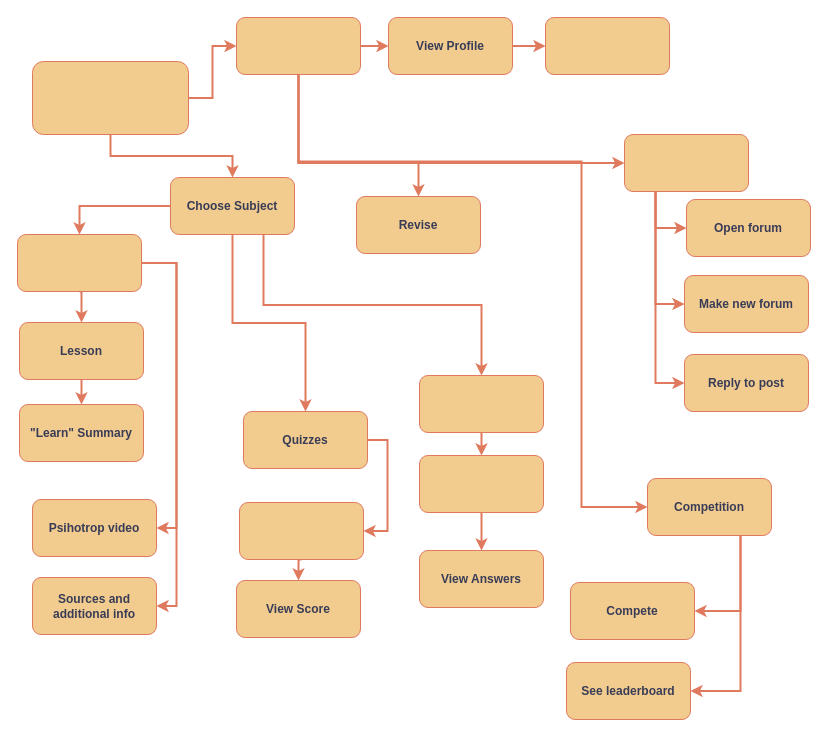
The diagram is 828 pixels wide and 737 high, and some of its shapes have lost their labels. Here are the shapes that lost their labels. From the top down, the box of each, then its label:
(236, 16, 360, 74): Log-in/Sign-up
(544, 16, 670, 74): View Statistics
(32, 60, 188, 134): Student
(624, 134, 748, 192): Forum
(16, 234, 142, 292): Courses
(418, 374, 544, 432): Bacalaureat Subjects
(418, 454, 544, 512): View Subjects
(238, 502, 364, 560): Take quiz
